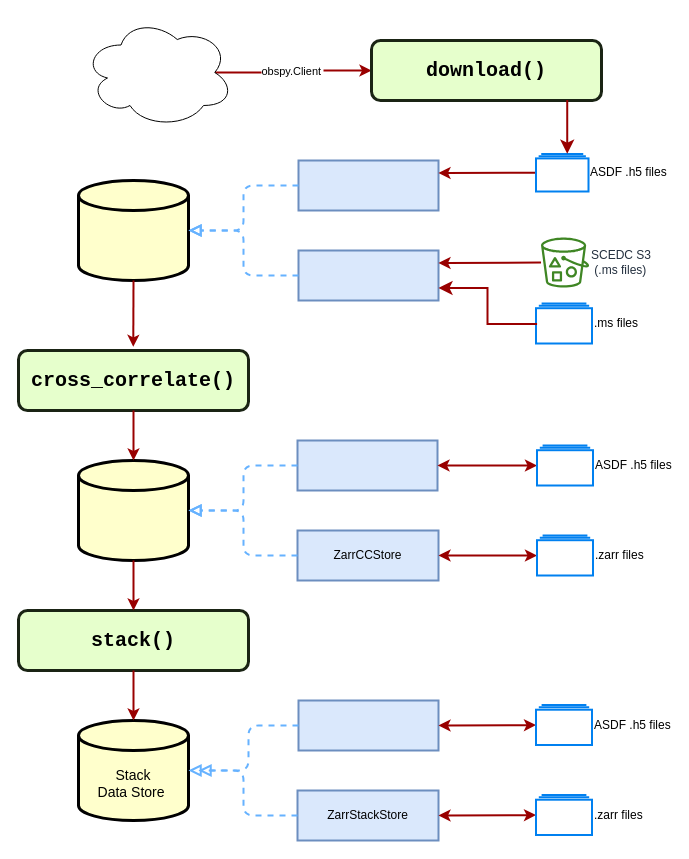
This 689x859 diagram has some shape labels left out. The centre of each missing label's shape, as x and y in pixels:
ASDFCCStore: (x=367, y=465)
ASDFRawDataStore: (x=368, y=185)
ASDFStackStore: (x=368, y=725)
Cross Correlation Data Store: (x=133, y=510)
Raw Data Store: (x=133, y=230)
SCEDC, IRIS, GEONET, etc.: (x=158, y=72)
SCEDCS3DataStore: (x=368, y=275)
